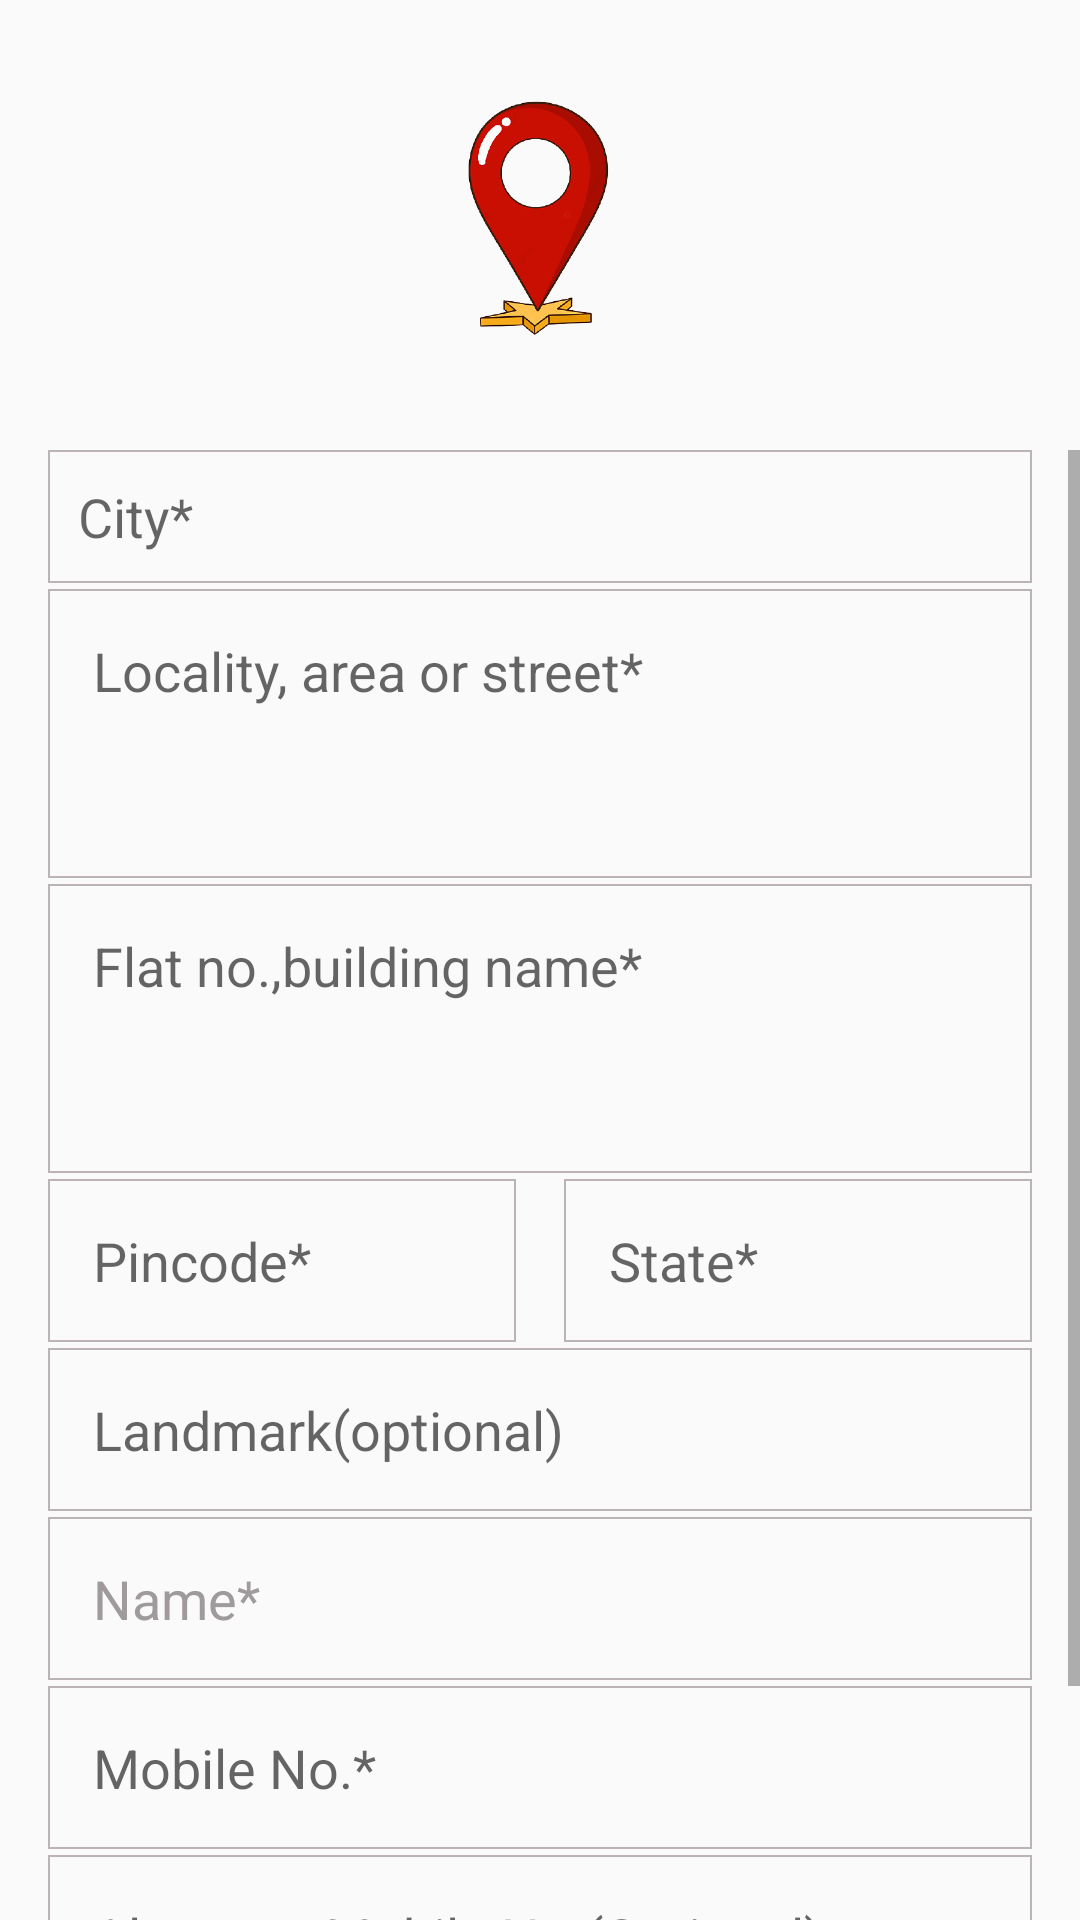

Named icons in this screenshot (1080px×1920px) and their centers, [x,y]:
addressicon: [538,218]
